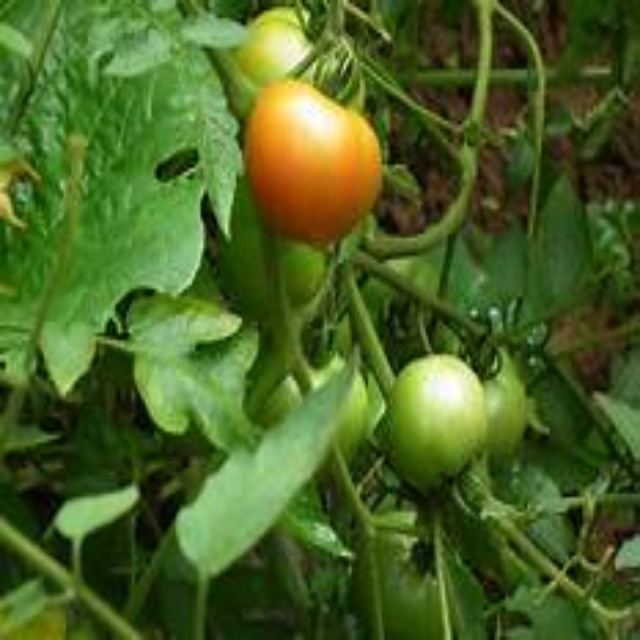tomato: (245, 90, 383, 238), (253, 342, 386, 477), (349, 514, 488, 635), (229, 12, 360, 128), (374, 357, 492, 467)
